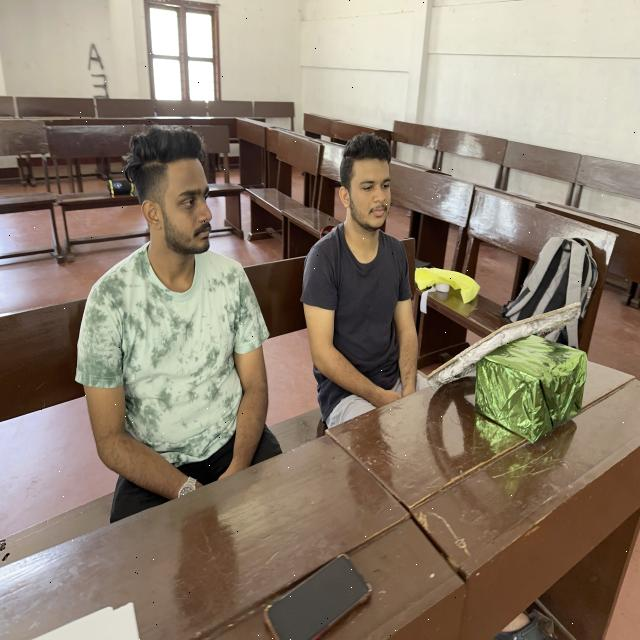no-seatbelt: (84, 248, 260, 534), (308, 231, 416, 440)
